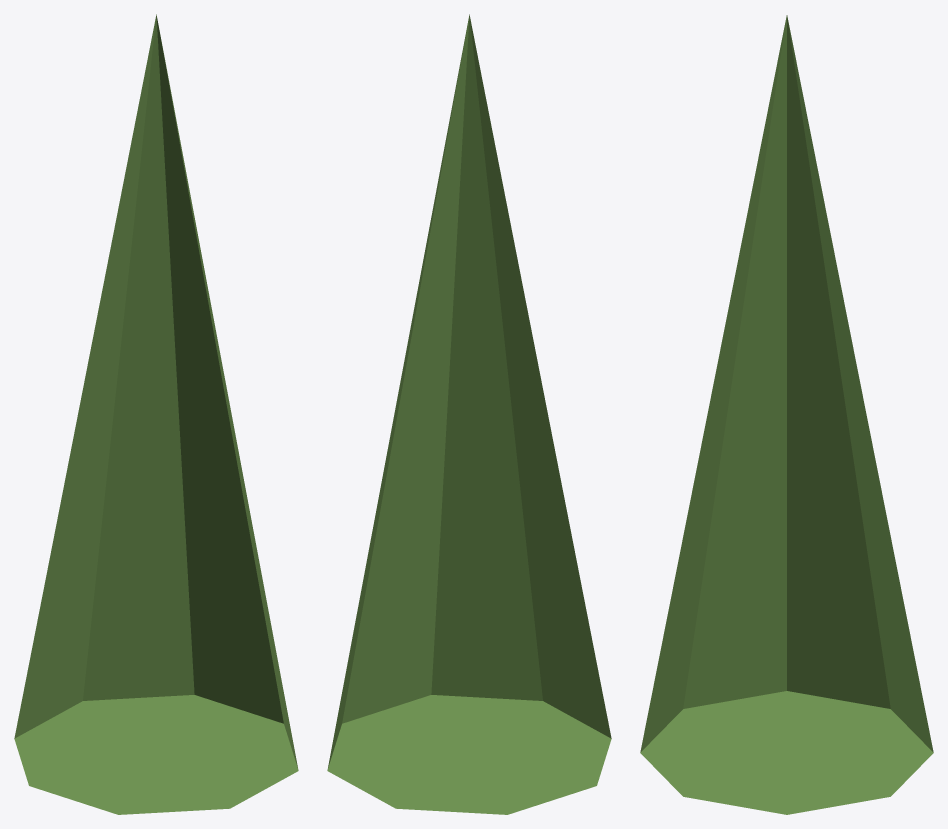
Rendered from tree_pine.glb.
3 views of the same model, side by side, from view 1: azimuth 30°, elevation 25°; view 2: azimuth 150°, elevation 25°; view 3: azimuth 270°, elevation 25° (orthographic).
Parts seen in each view (by area): view 1: Pine; view 2: Pine; view 3: Pine.
Part boxes in pixels (x1=…): Pine: x1=14, y1=14, x2=298, y2=814; Pine: x1=327, y1=14, x2=611, y2=814; Pine: x1=640, y1=15, x2=933, y2=814.
Bounding box in the file's own units: 0.9 × 2.5 × 0.9.
